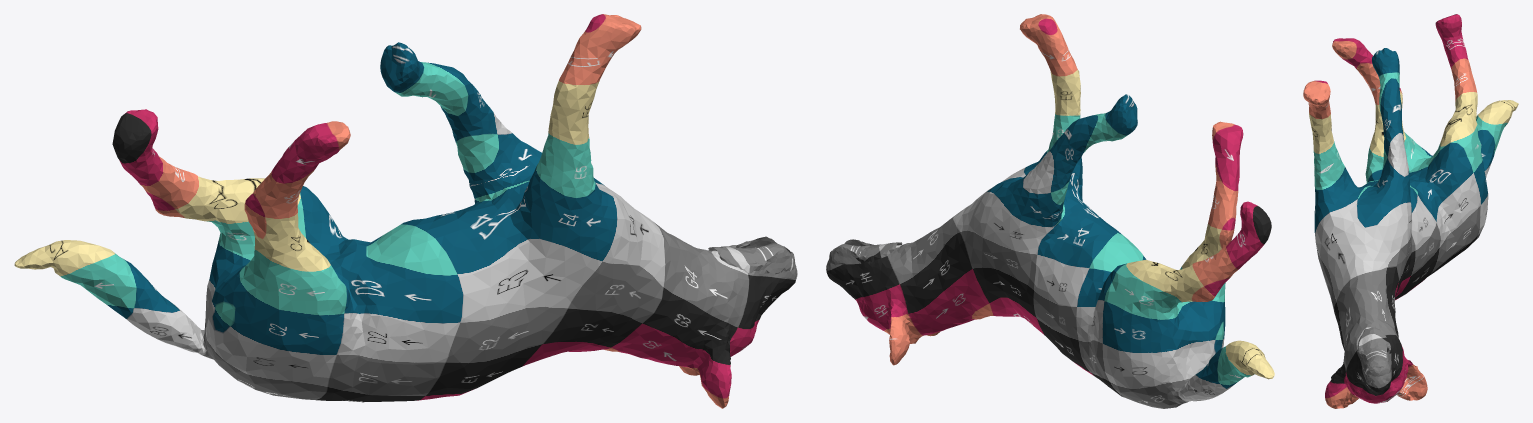
File: wolf_01-dog_05.obj
The picture shows the model from 3 angles, left to right: view 1: azimuth 30°, elevation 25°; view 2: azimuth 150°, elevation 25°; view 3: azimuth 270°, elevation 25°; orthographic projection. The views are drawn at different scales.
Parts seen in each view (by area): view 1: wolf_01-dog_05_export; view 2: wolf_01-dog_05_export; view 3: wolf_01-dog_05_export.
Part boxes in pixels (box(x1,y1,x2,y2)): wolf_01-dog_05_export: box(14, 14, 797, 408); wolf_01-dog_05_export: box(826, 14, 1274, 408); wolf_01-dog_05_export: box(1303, 14, 1518, 408).
Size of the model in its own units: 1.13 by 0.6869 by 0.4708.
